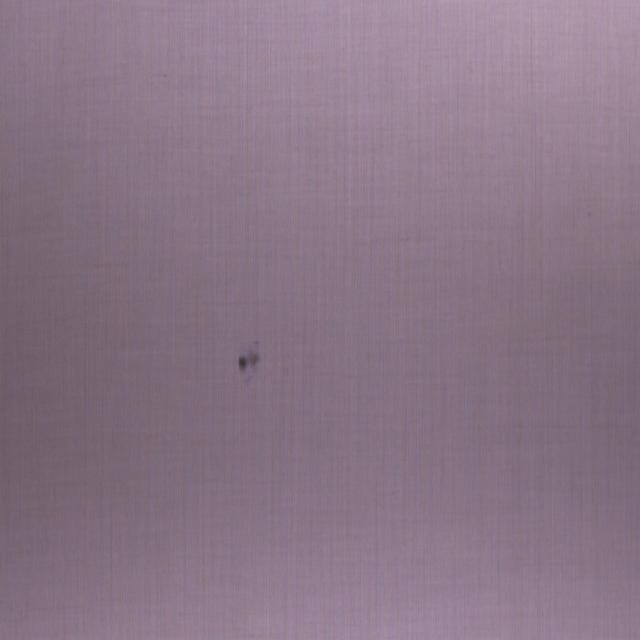dirty: (236, 341, 264, 384)
